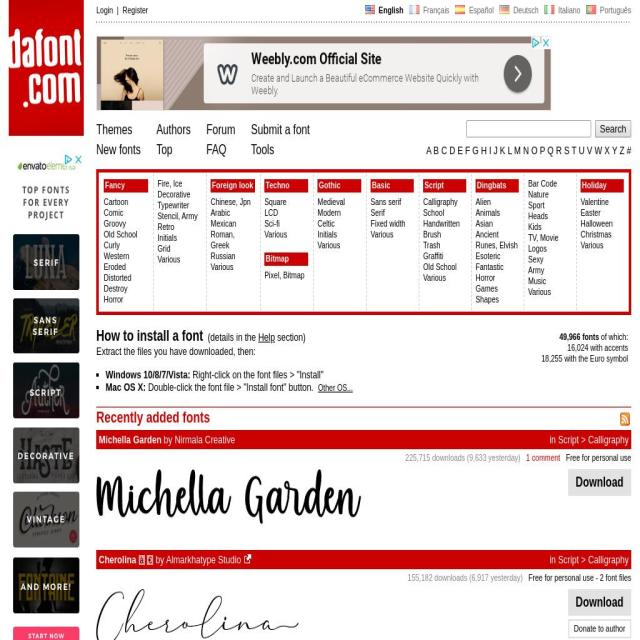button: (96, 409, 632, 427), (568, 469, 632, 496), (568, 589, 632, 616), (568, 620, 632, 638), (211, 229, 255, 251), (104, 196, 148, 208), (104, 218, 148, 230), (104, 250, 148, 262), (104, 272, 148, 284), (158, 178, 202, 190), (158, 210, 202, 222), (158, 232, 202, 244), (211, 196, 255, 208), (211, 218, 255, 230), (211, 250, 255, 262), (264, 196, 308, 208), (264, 218, 308, 230), (318, 196, 362, 208), (318, 218, 362, 230), (580, 196, 624, 208), (580, 218, 624, 230), (371, 196, 414, 208), (371, 218, 414, 230), (423, 196, 466, 208), (423, 218, 466, 230), (423, 250, 466, 262), (423, 272, 466, 284), (528, 178, 571, 190), (528, 210, 571, 222), (528, 232, 571, 244), (528, 286, 571, 298), (476, 196, 518, 208), (476, 218, 518, 230), (476, 250, 518, 262), (476, 272, 518, 284), (104, 229, 148, 240), (104, 240, 148, 251), (104, 294, 148, 305), (158, 189, 202, 200), (158, 200, 202, 211), (158, 243, 202, 254), (158, 254, 202, 265), (264, 229, 308, 240), (264, 270, 308, 281), (318, 229, 362, 240), (318, 240, 362, 251), (580, 229, 624, 240), (580, 240, 624, 251), (371, 229, 414, 240), (423, 229, 466, 240), (423, 240, 466, 251), (528, 189, 571, 200), (528, 200, 571, 211), (528, 243, 571, 254), (528, 254, 571, 265), (528, 265, 571, 276), (105, 180, 147, 191), (212, 180, 254, 191), (476, 229, 518, 240), (476, 240, 518, 251), (476, 294, 518, 305), (319, 180, 360, 191), (424, 180, 465, 191), (104, 208, 148, 218), (104, 262, 148, 272), (104, 284, 148, 294), (158, 222, 202, 232), (211, 208, 255, 218), (211, 262, 255, 272), (266, 180, 306, 191), (264, 208, 308, 218), (266, 253, 306, 264), (318, 208, 362, 218), (372, 180, 412, 191), (477, 180, 517, 191), (582, 180, 622, 191), (580, 208, 624, 218), (371, 208, 414, 218), (423, 208, 466, 218), (423, 262, 466, 272), (528, 222, 571, 232), (528, 276, 571, 286), (476, 208, 518, 218), (476, 262, 518, 272), (476, 284, 518, 294)
field: (466, 120, 592, 138), (594, 120, 632, 138)
iframe: (8, 152, 84, 640), (96, 36, 552, 111)
image: (96, 467, 632, 541), (96, 587, 631, 640), (8, 0, 84, 136), (96, 22, 632, 24), (620, 412, 630, 426), (364, 5, 375, 14), (455, 5, 466, 14), (499, 5, 510, 14), (409, 5, 419, 14), (544, 5, 554, 14), (586, 5, 596, 14), (244, 554, 252, 564)
link: (96, 328, 203, 344), (166, 553, 241, 566), (251, 122, 310, 136), (99, 433, 161, 446), (174, 433, 236, 446), (566, 452, 632, 462), (528, 572, 594, 582), (96, 142, 141, 156), (588, 433, 628, 446), (588, 553, 628, 566), (96, 122, 132, 136), (156, 122, 192, 136), (99, 553, 136, 566), (206, 122, 236, 136), (318, 382, 352, 392), (526, 452, 560, 462), (250, 142, 274, 156), (206, 142, 227, 156), (122, 5, 148, 15), (558, 433, 578, 446), (558, 553, 578, 566), (156, 142, 173, 156), (258, 331, 276, 343), (96, 5, 113, 15), (438, 144, 448, 157), (446, 144, 456, 157), (511, 144, 521, 157), (520, 144, 530, 157), (584, 144, 594, 157), (592, 144, 602, 157), (455, 144, 464, 157), (470, 144, 479, 157), (478, 144, 487, 157), (498, 144, 507, 157), (529, 144, 538, 157), (545, 144, 554, 157), (553, 144, 562, 157), (576, 144, 585, 157), (431, 144, 439, 157), (462, 144, 470, 157), (538, 144, 546, 157), (562, 144, 570, 157), (569, 144, 577, 157), (602, 144, 610, 157), (610, 144, 618, 157), (624, 144, 632, 157), (491, 144, 498, 157), (505, 144, 512, 157), (617, 144, 624, 157), (426, 144, 432, 157), (486, 144, 492, 157)
text: (146, 381, 318, 393), (96, 345, 256, 357), (190, 368, 324, 381), (405, 452, 521, 462), (408, 572, 523, 582), (106, 368, 190, 381), (541, 354, 629, 364), (203, 331, 258, 343), (567, 342, 628, 352), (106, 381, 146, 393), (559, 332, 599, 342), (274, 331, 306, 343), (594, 572, 632, 582), (596, 5, 631, 15), (509, 5, 542, 15), (374, 5, 406, 15), (419, 5, 451, 15), (465, 5, 496, 15), (599, 332, 628, 342), (554, 5, 582, 15), (161, 433, 175, 446), (153, 553, 167, 566), (549, 433, 559, 446), (579, 433, 589, 446), (549, 553, 559, 566), (579, 553, 589, 566), (112, 5, 122, 15), (138, 555, 145, 565), (147, 555, 154, 565)
